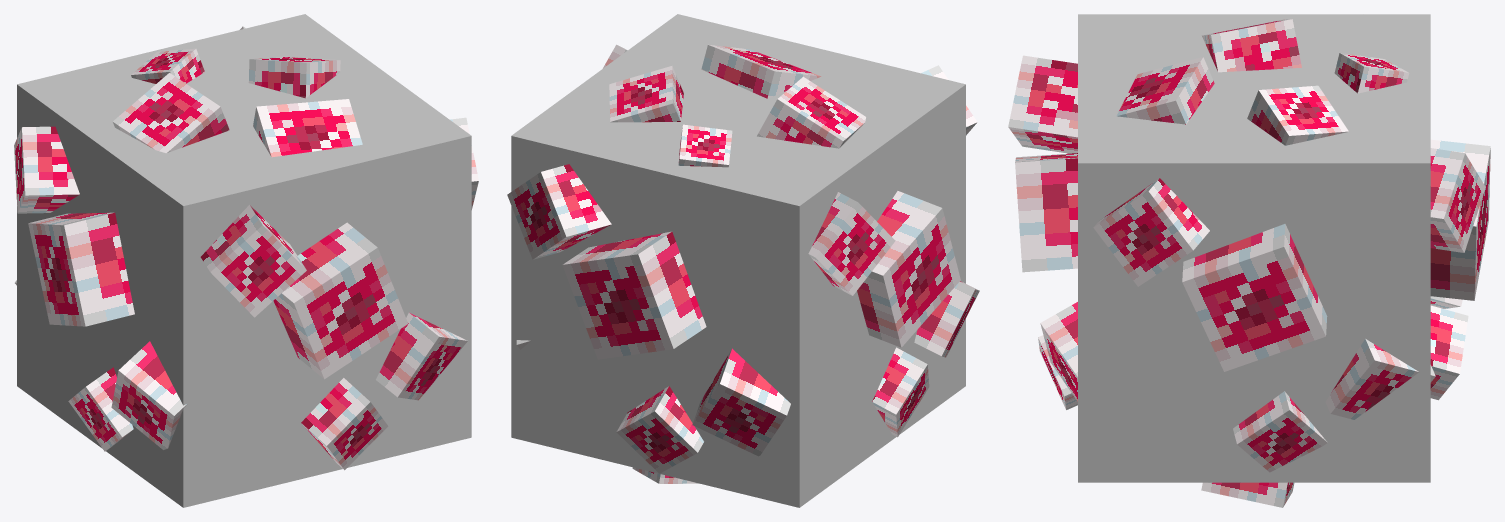
File: rubi_deepslate_ore_v7.obj
3 renders of one model, left to right at view 1: azimuth 30°, elevation 25°; view 2: azimuth 150°, elevation 25°; view 3: azimuth 270°, elevation 25°, orthographic. The views are drawn at different scales.
Size of the model in its own units: 1.31 by 1.32 by 1.37.
